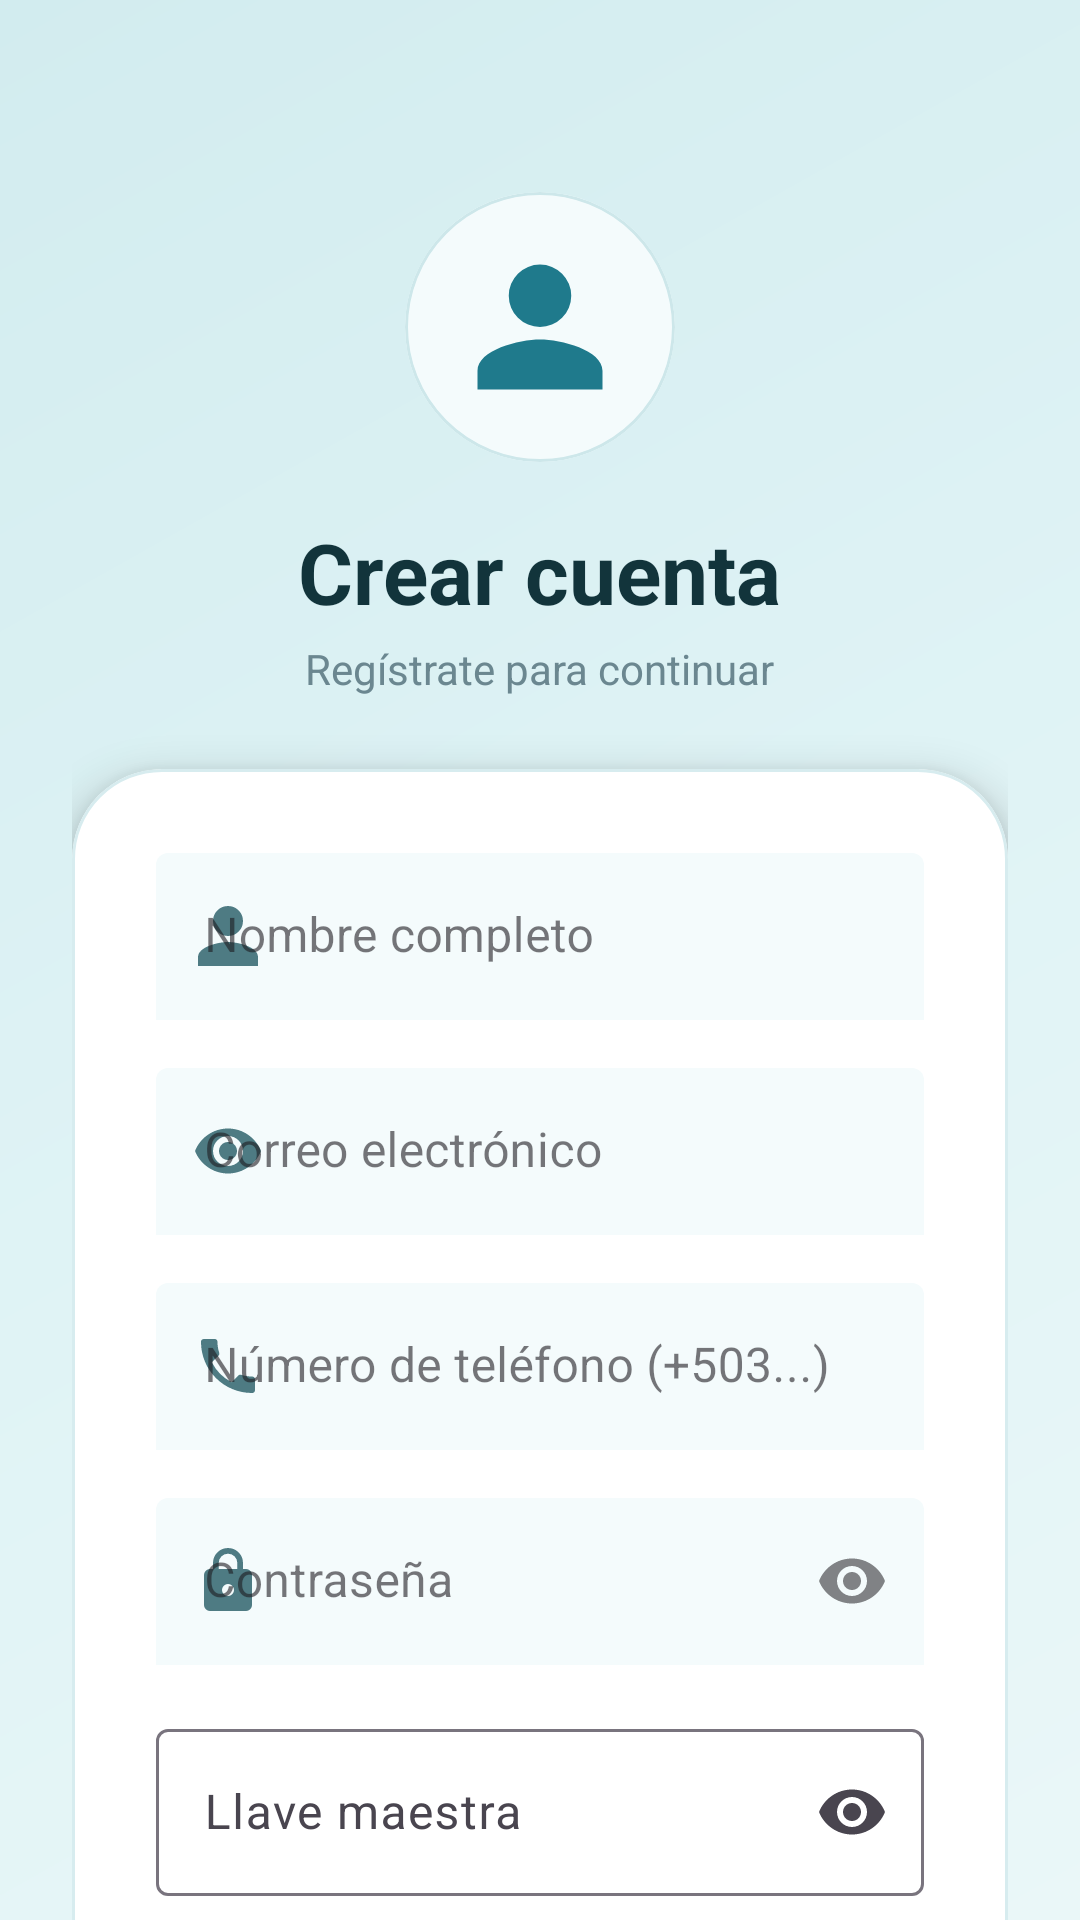

Icon click points for this 1080 × 1920 phone screenshot, format (x,y):
user: (540,327)
